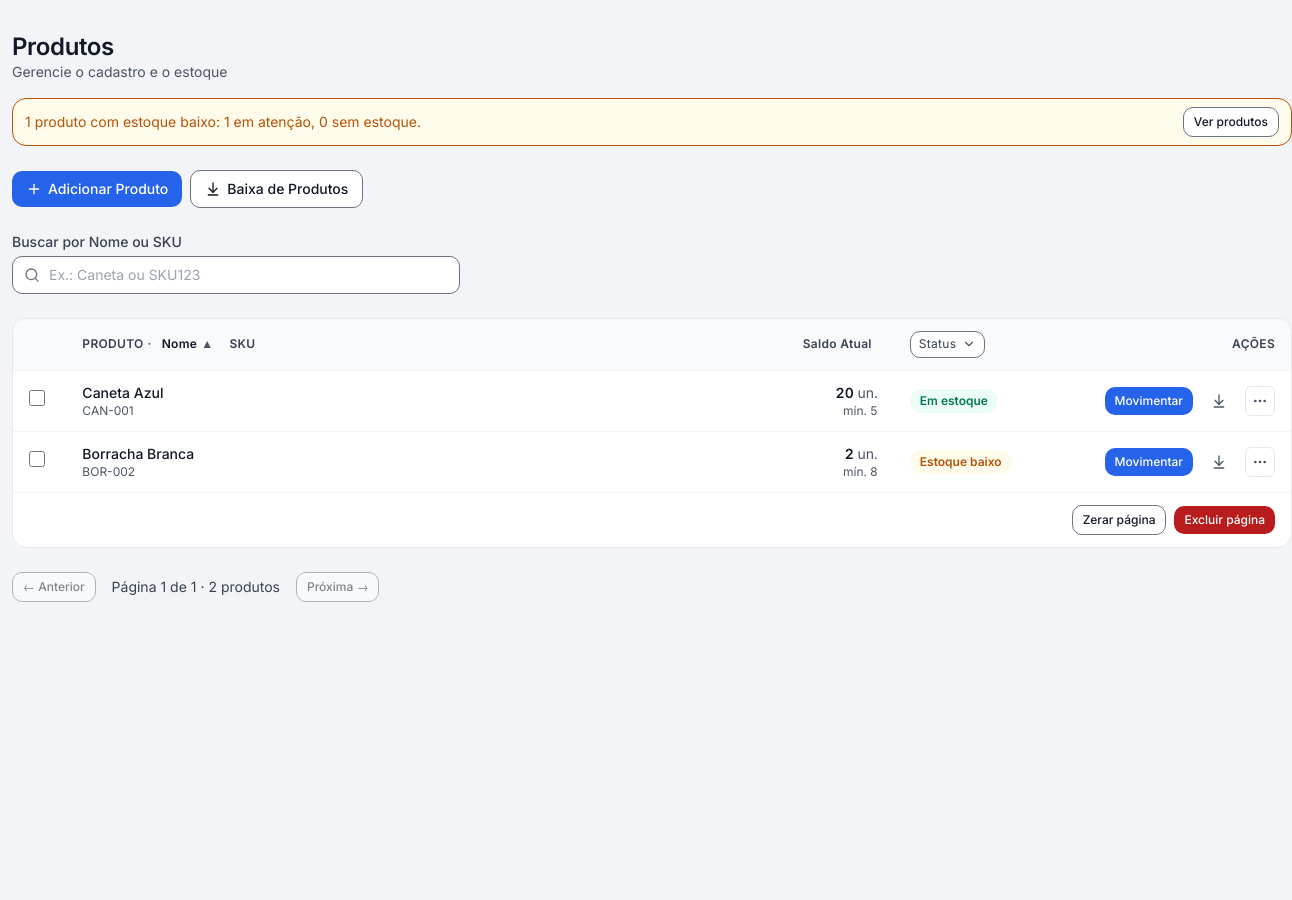
Scenario: ProductDashboard — a seleção não sobrevive à mudança de recorte (PD-1) › PD-1 · buscar limpa a seleção
The image size is (1292, 900).
Click the checkbox named "Selecionar Caneta Azul" at (37, 398), box top-left (29, 390), bottom-right (45, 406)
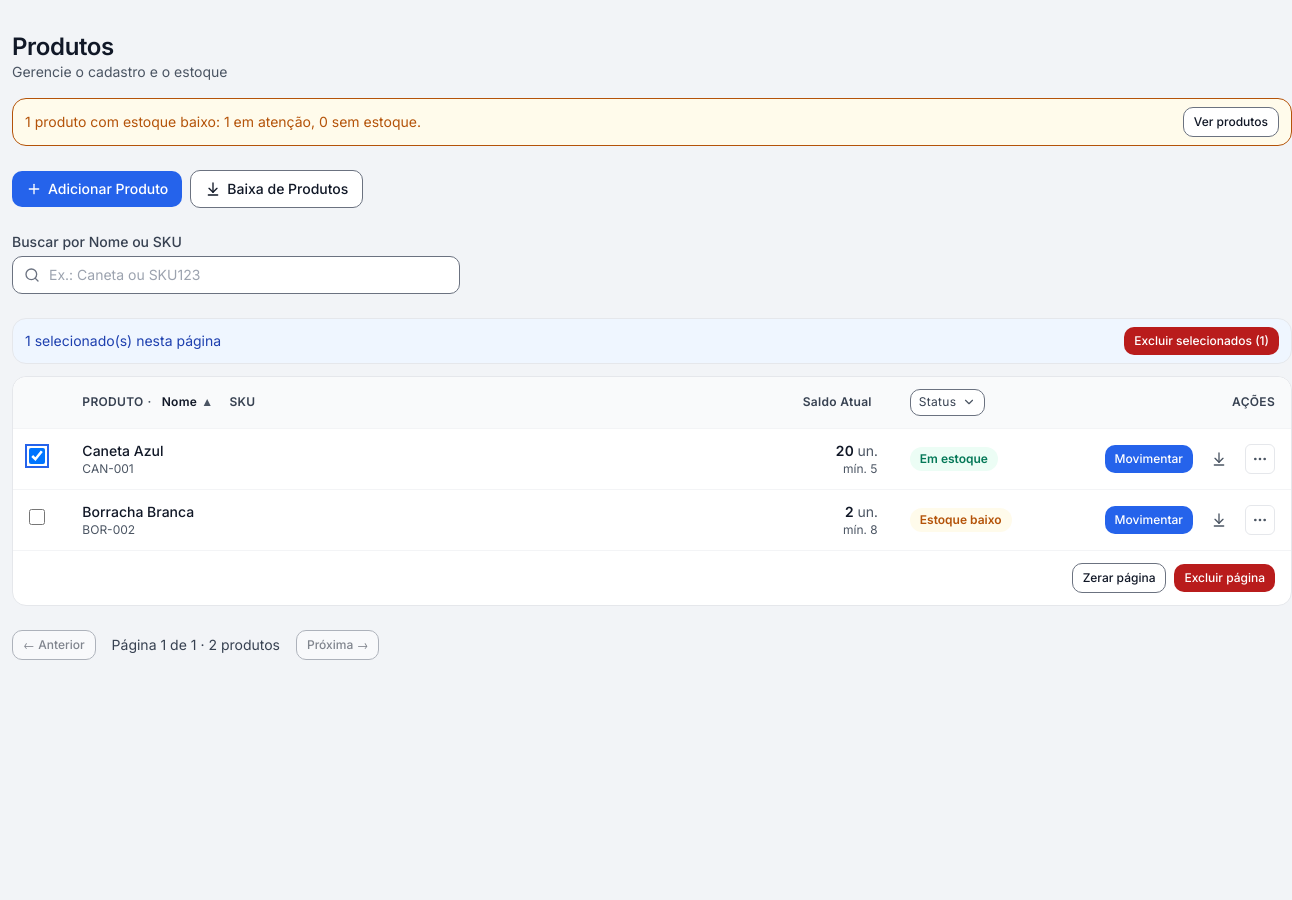
expect the button "Excluir selecionados (1)" is enabled: met, box top-left (1124, 327), bottom-right (1279, 355)
Type "borracha" into the search field labelled "Buscar por Nome ou SKU" at (236, 275), box top-left (12, 256), bottom-right (460, 294)
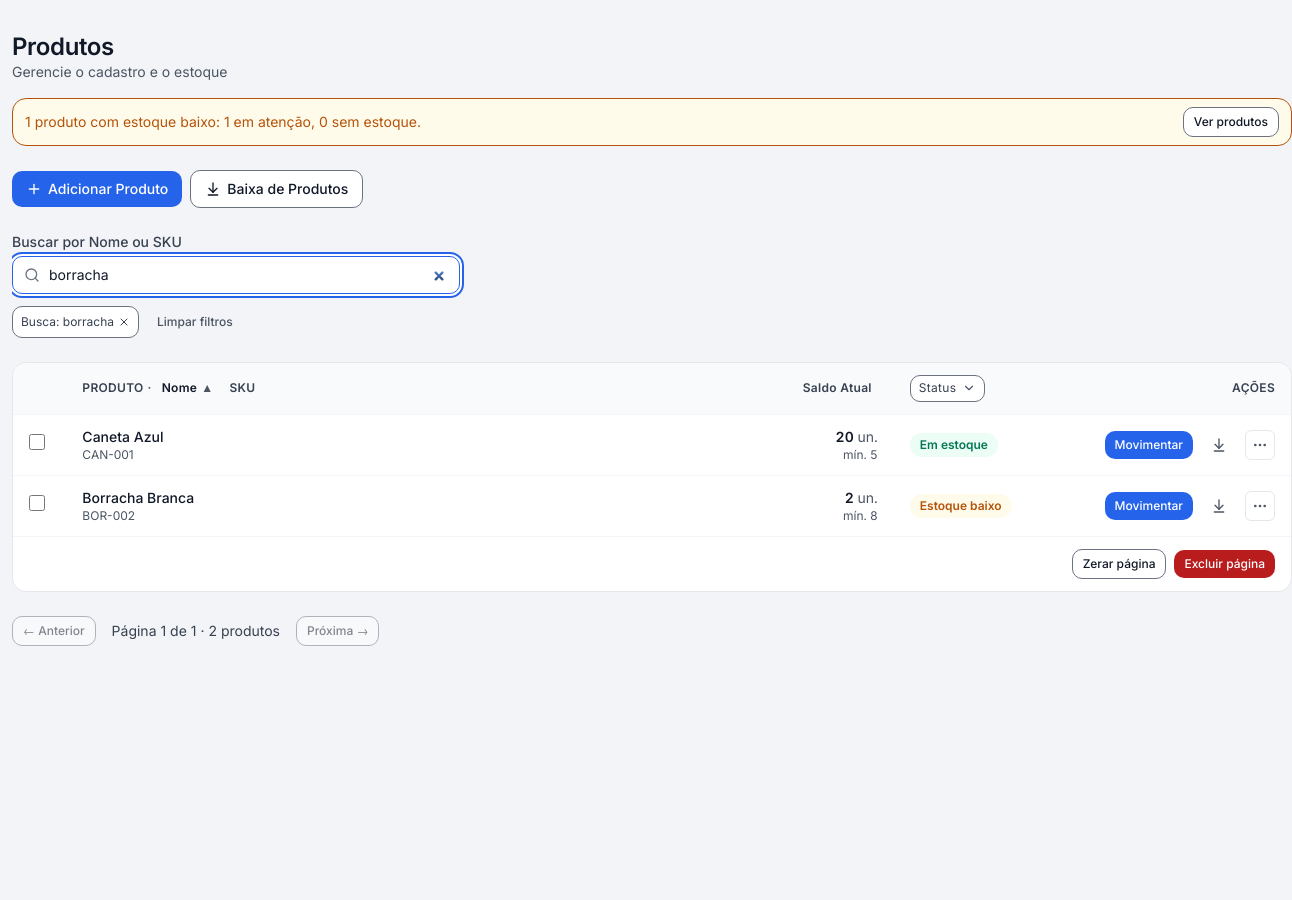
expect the button "Excluir selecionados" is gone: met
